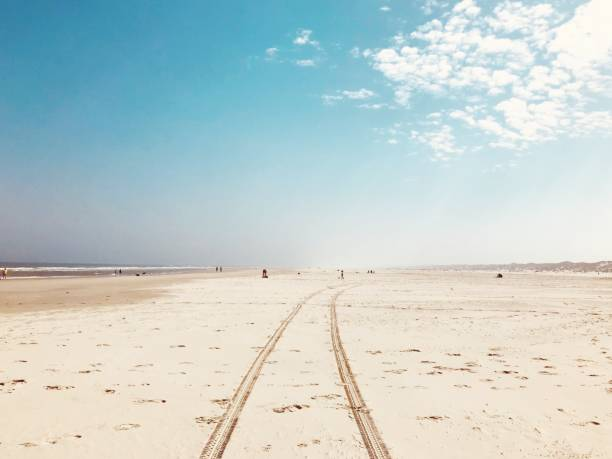vehicle_track: (200, 287, 328, 458), (330, 291, 390, 458)
